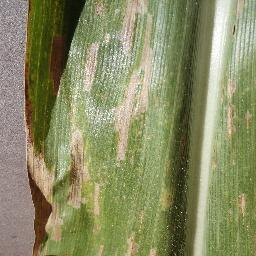Gray_Leaf_Spot: (10, 141, 63, 238), (65, 94, 103, 212), (118, 50, 157, 109), (19, 2, 31, 138), (110, 113, 140, 163), (215, 70, 236, 140), (45, 26, 64, 99), (123, 0, 147, 56), (227, 188, 256, 228), (151, 187, 180, 215), (82, 37, 95, 96), (115, 225, 139, 256), (229, 0, 245, 33), (91, 232, 107, 256), (244, 105, 254, 143), (91, 1, 108, 22), (132, 210, 149, 228), (30, 241, 51, 254), (146, 239, 159, 256), (91, 219, 101, 233), (115, 239, 127, 246)
